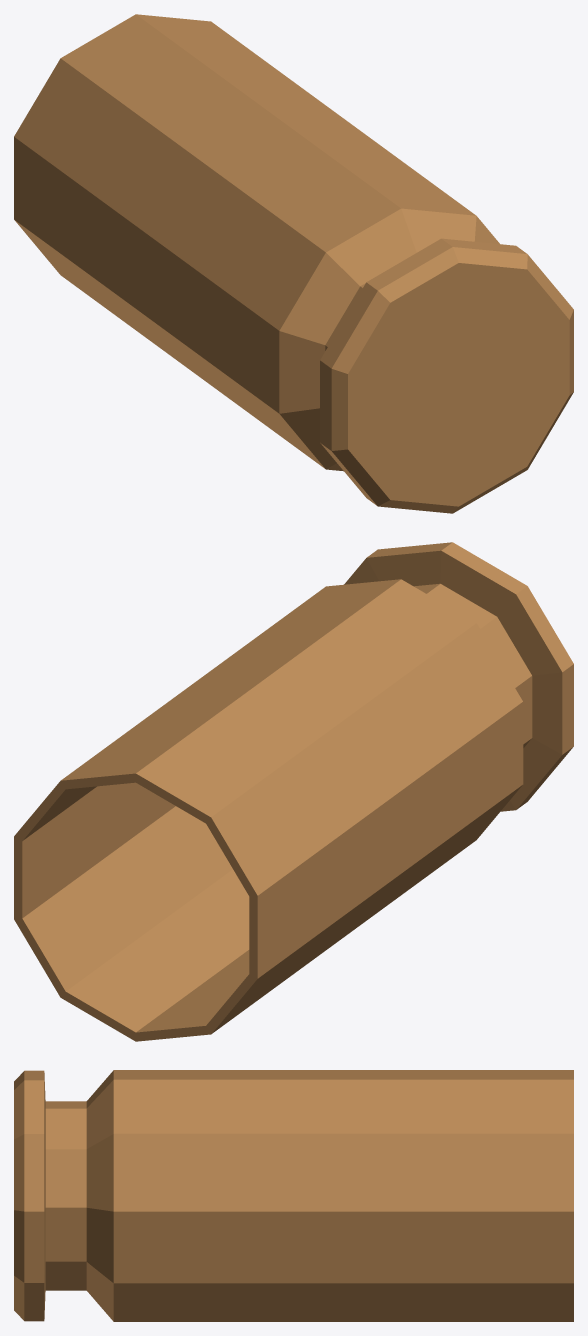
File: BulletCartridge.glb
The picture shows the model from 3 angles, top to bottom: view 1: azimuth 30°, elevation 25°; view 2: azimuth 150°, elevation 25°; view 3: azimuth 270°, elevation 25°; orthographic projection. The views are drawn at different scales.
Visible parts, largest first — view 1: Cylinder; view 2: Cylinder; view 3: Cylinder.
Boxes of the visible parts, x1,y1,x2,y2 form: Cylinder: (14,14,573,513); Cylinder: (14,542,573,1041); Cylinder: (14,1070,573,1321).
Size of the model in its own units: 1.9 by 2 by 4.36.
